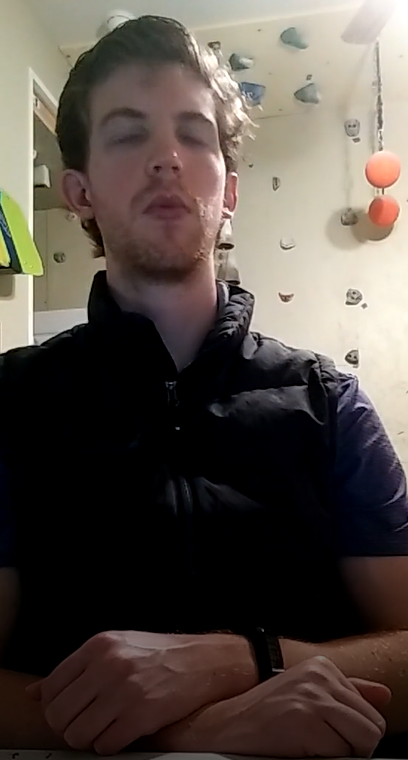Sleeping: (90, 108, 219, 158)
